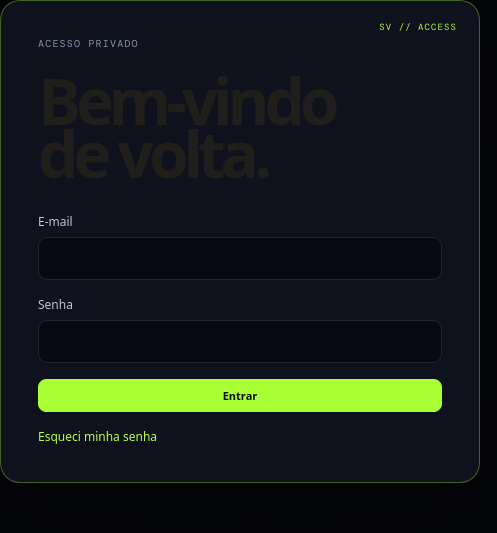
requires a valid email before attempting login
The width and height of the screenshot is (497, 533).
In the field labelled "E-mail": coordinates (240, 259) x1=38 y1=237 x2=442 y2=280, type "invalido"
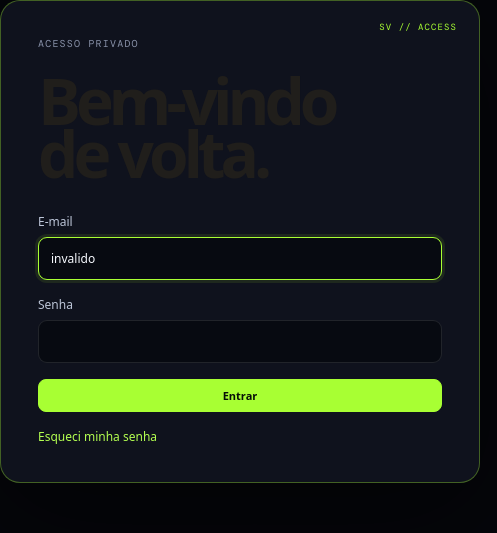
Click the button "Entrar": coordinates (240, 396) x1=38 y1=379 x2=442 y2=412
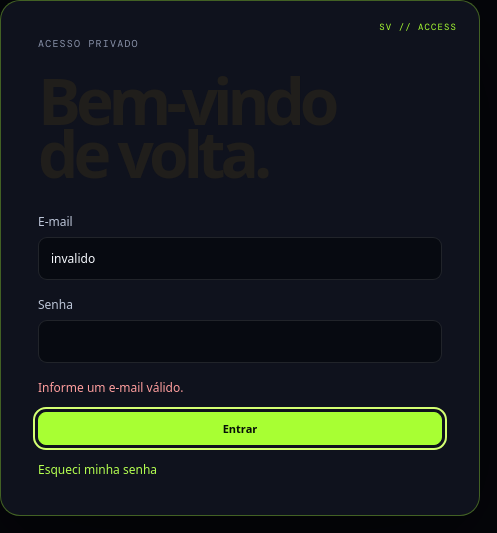
Now the text "Informe um e-mail válido." is shown, box x1=38 y1=379 x2=184 y2=396
